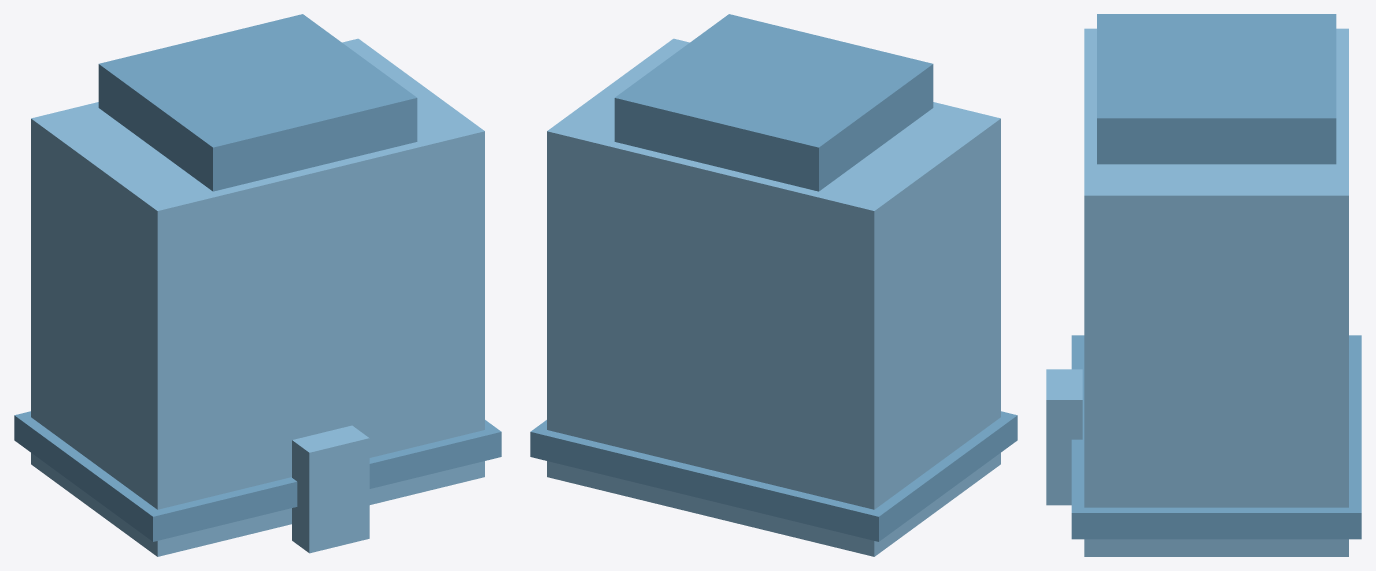
Rendered from cirurgiao_tronco.glb.
3 views of the same model, side by side, from view 1: azimuth 30°, elevation 25°; view 2: azimuth 150°, elevation 25°; view 3: azimuth 270°, elevation 25° (orthographic). The views are drawn at different scales.
Visible parts, largest first — view 1: cirurgiao_tronco; view 2: cirurgiao_tronco; view 3: cirurgiao_tronco.
Part boxes in pixels (x1,y1,x2,y2): cirurgiao_tronco: (14,14,501,556); cirurgiao_tronco: (530,14,1017,556); cirurgiao_tronco: (1046,14,1361,556).
Size of the model in its own units: 0.58 by 0.645 by 0.435.
